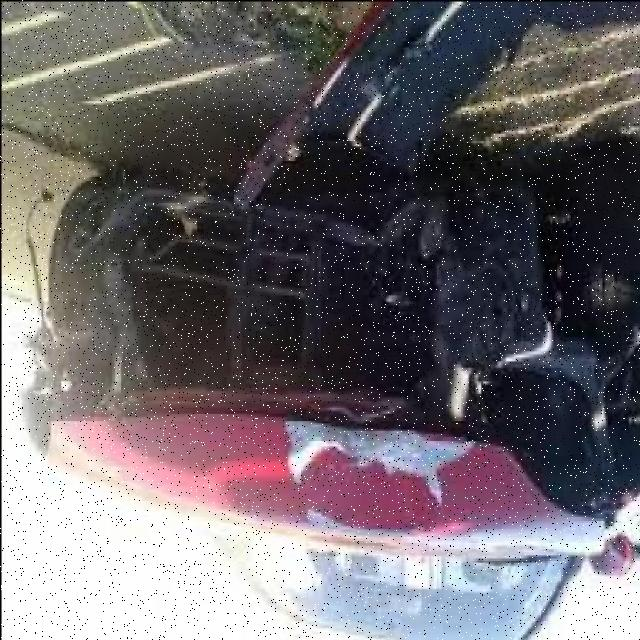damage: (14, 4, 628, 554)
